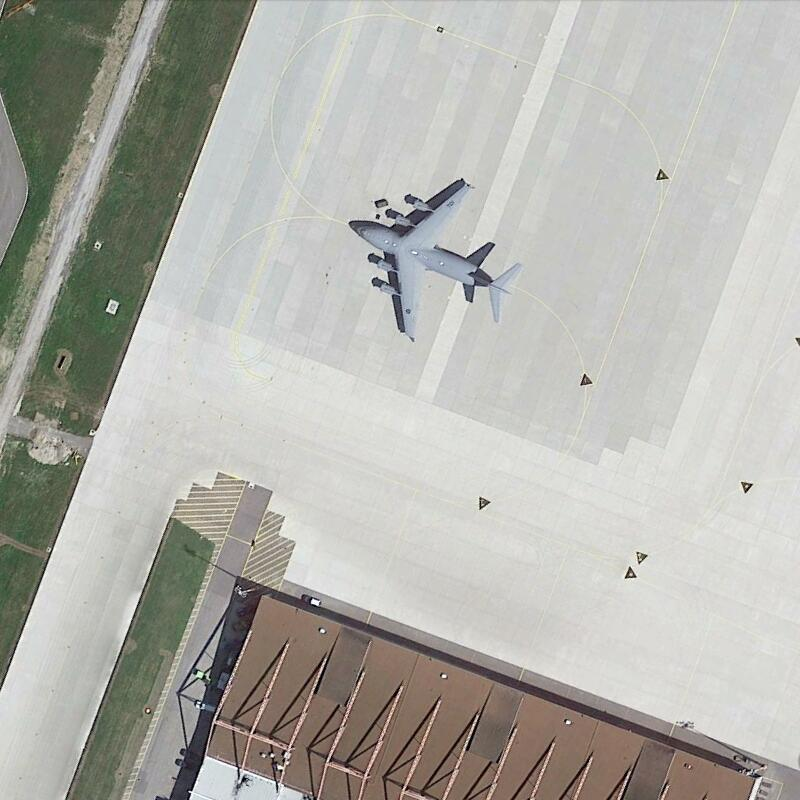A3: (349, 175, 527, 346)
